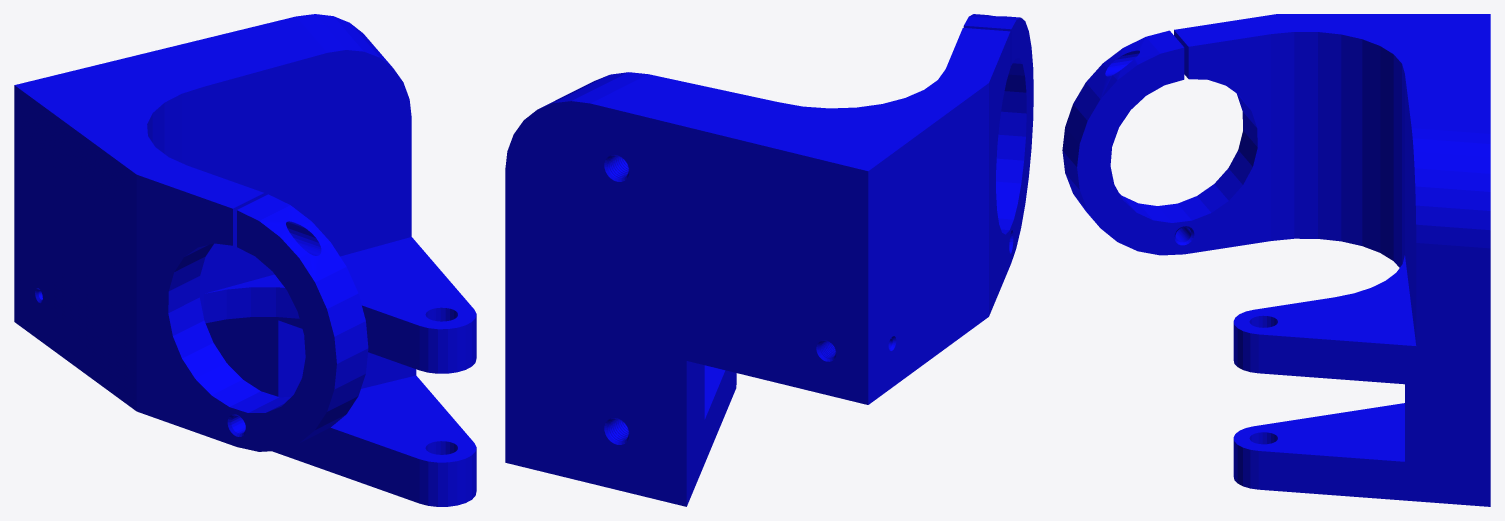
File: engine_body.glb
3 renders of one model, left to right at view 1: azimuth 30°, elevation 25°; view 2: azimuth 150°, elevation 25°; view 3: azimuth 270°, elevation 25°, orthographic. The views are drawn at different scales.
Parts seen in each view (by area): view 1: Node1; view 2: Node1; view 3: Node1.
Part boxes in pixels (x1,y1,x2,y2): Node1: (14,14,476,506); Node1: (505,14,1033,506); Node1: (1062,14,1490,506).
Size of the model in its own units: 41.27 by 41.27 by 47.63.
